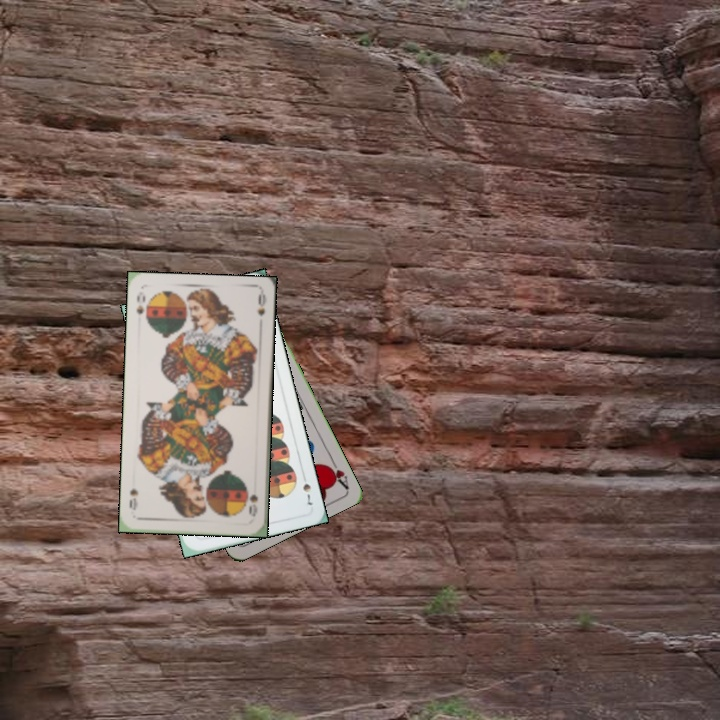HA: (322, 453, 351, 491)
S7: (299, 479, 315, 508)
SO: (132, 291, 150, 322), (245, 490, 260, 519)
